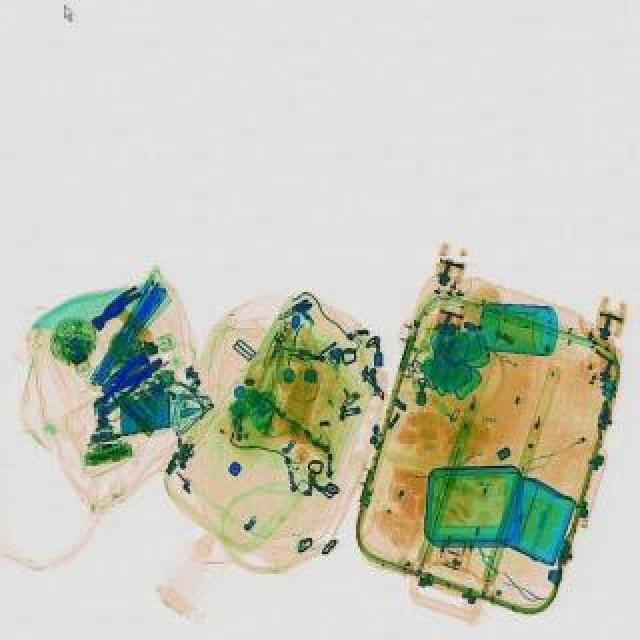wrench: (88, 342, 166, 412)
